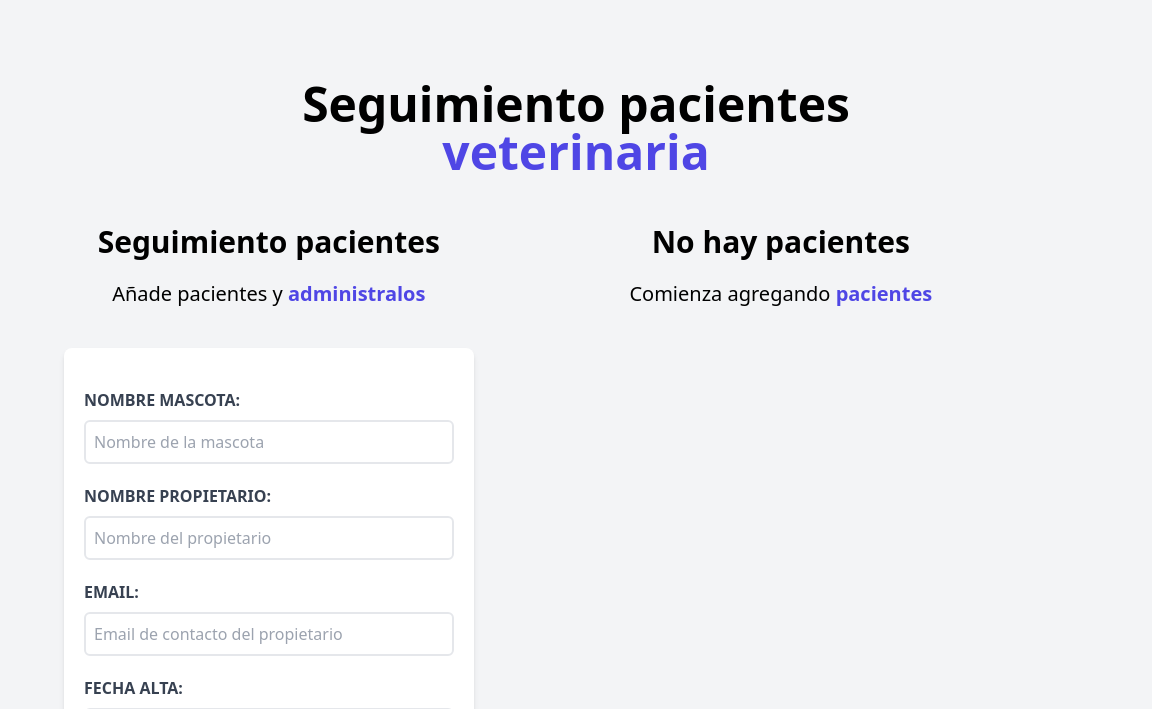
it: should add a new patient date
Type "Test name" into the field with test id "pacientNameInput".
click(269, 442); type("Test name")  # box x1=84 y1=420 x2=454 y2=464
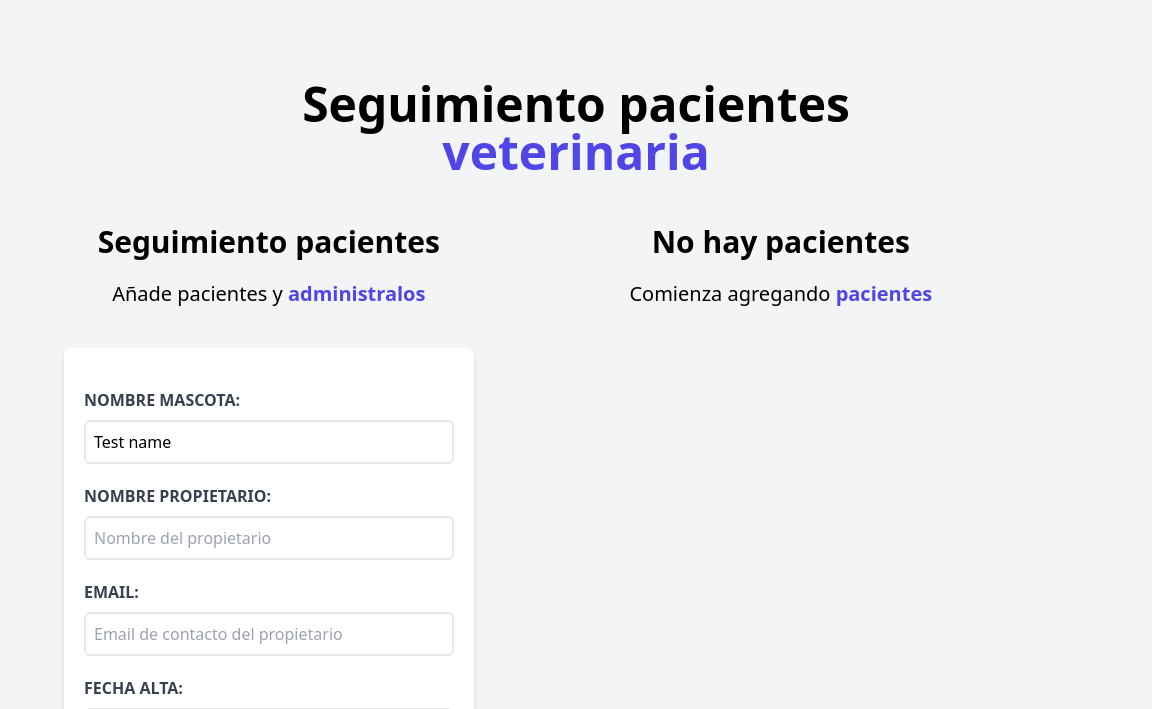
Type "Test owner" into the field with test id "pacientOwnerNameInput".
click(269, 538); type("Test owner")  # box x1=84 y1=516 x2=454 y2=560
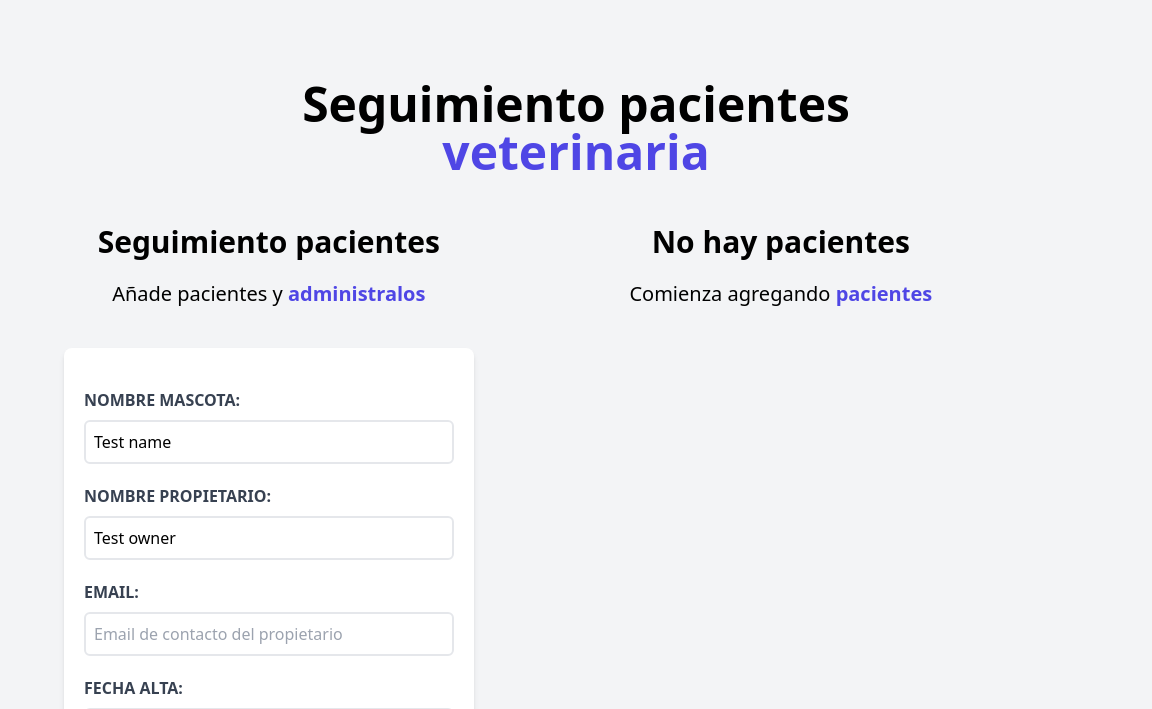
Type "test@email.com" into the field with test id "pacientEmailInput".
click(269, 634); type("test@email.com")  # box x1=84 y1=612 x2=454 y2=656
(page scrolled)
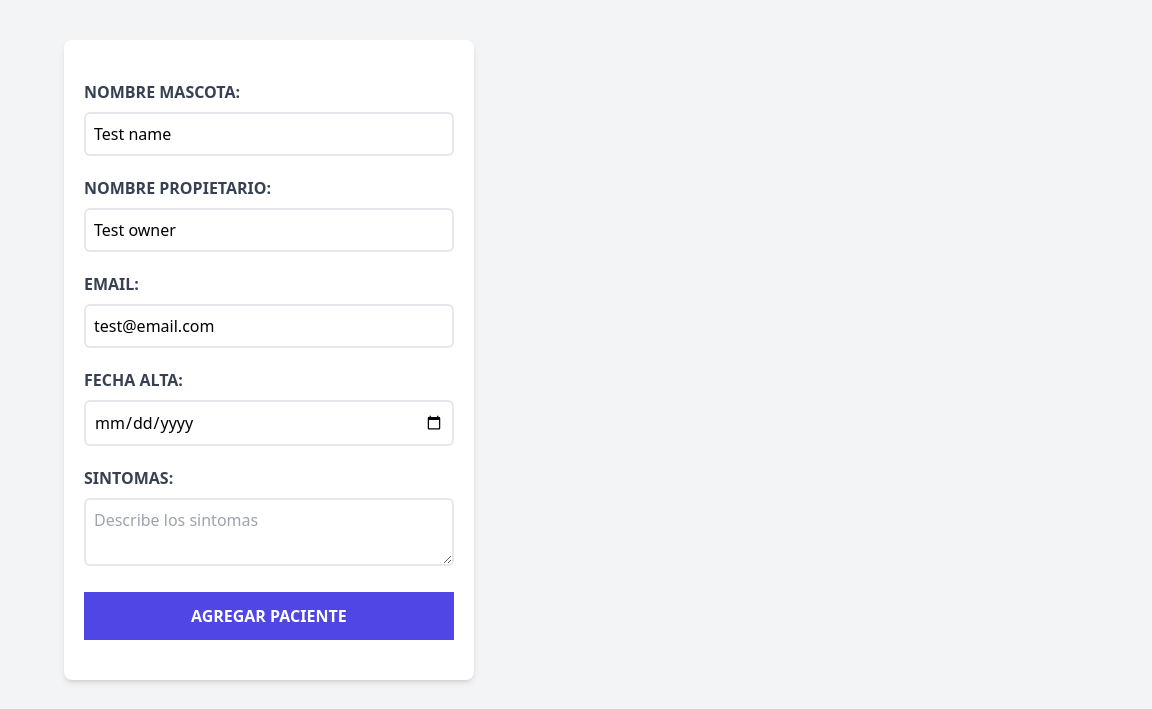
Type "2024-01-13" into the date field with test id "signUpDateInput".
click(269, 423); type("2024-01-13")  # box x1=84 y1=400 x2=454 y2=446
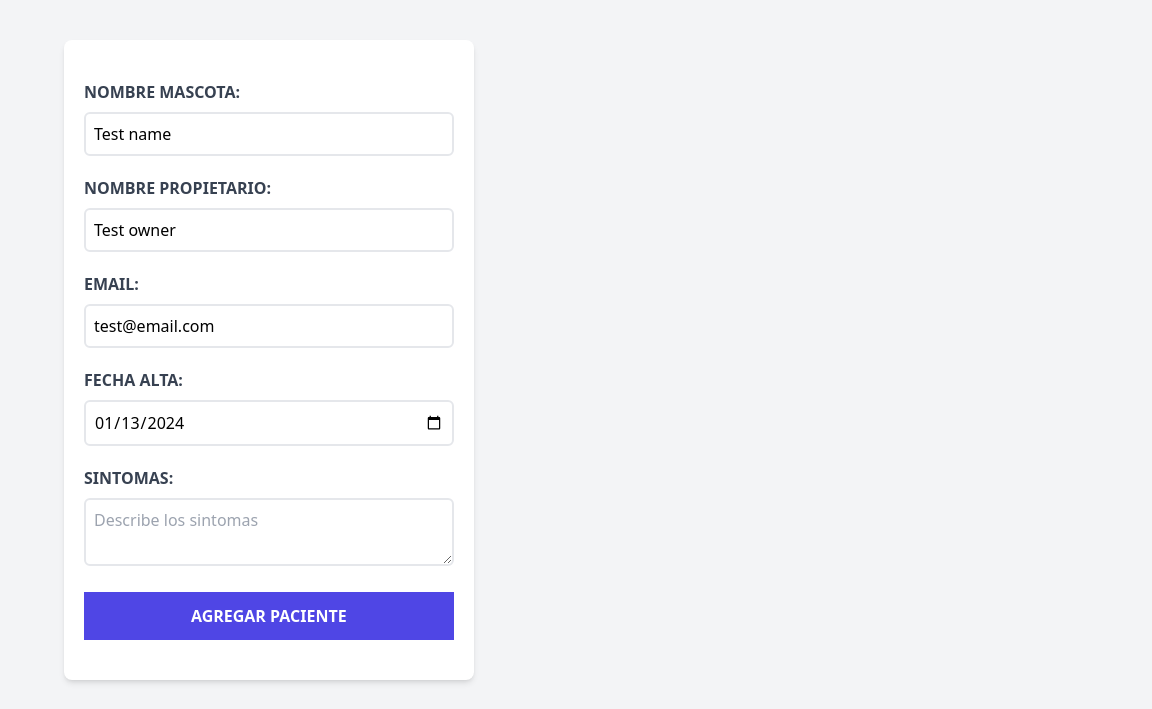
Type "Test symptoms" into the text box with test id "pacientSymptomsInput".
click(269, 532); type("Test symptoms")  # box x1=84 y1=498 x2=454 y2=566
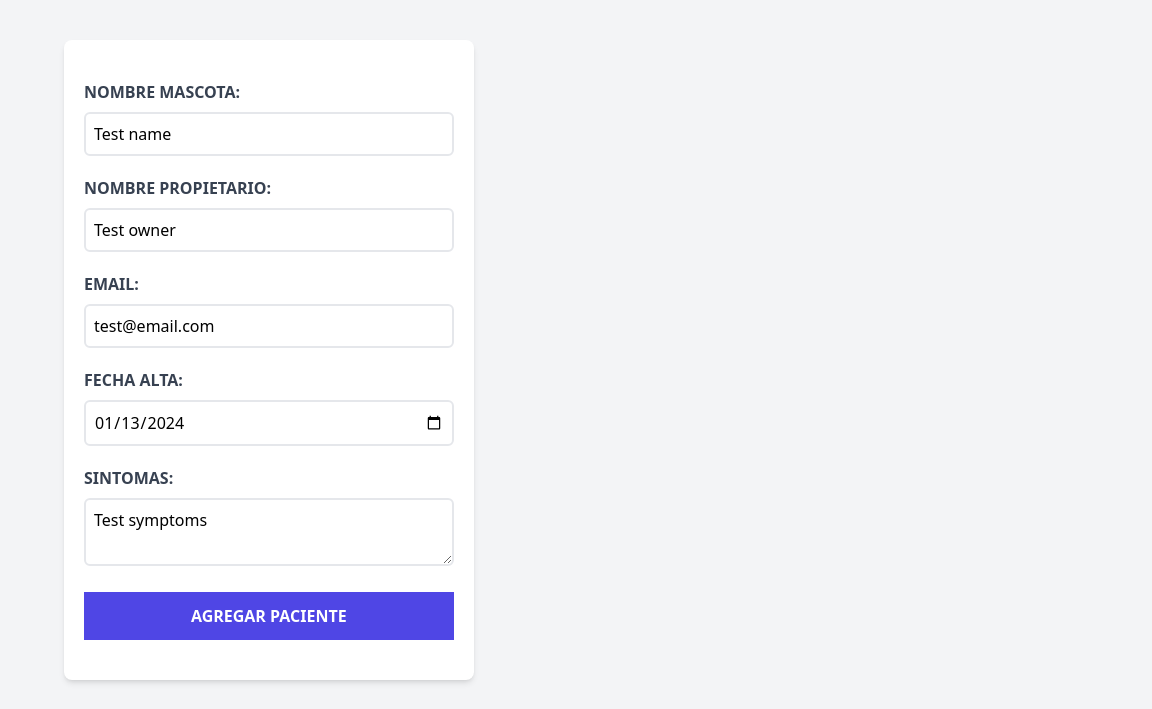
Click the button with test id "submitButtonId".
click(269, 616)  # box x1=84 y1=592 x2=454 y2=640
(page scrolled)
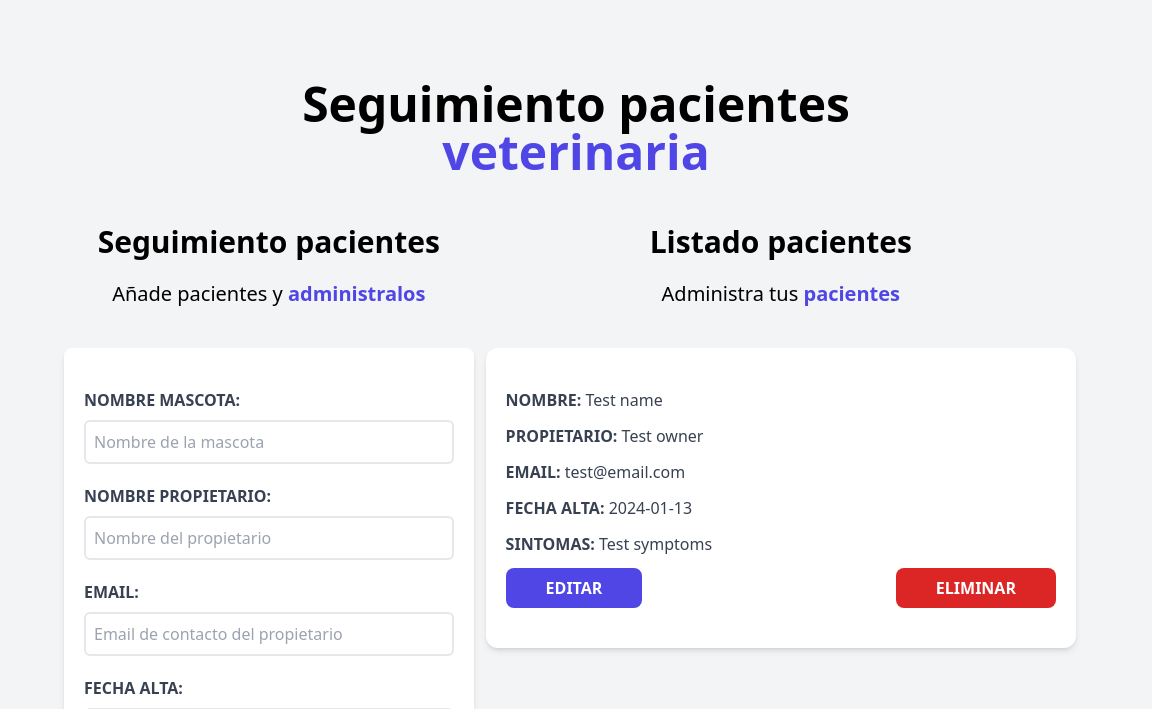
Result: the heading "Listado pacientes" is shown at x1=650 y1=221 x2=912 y2=262
